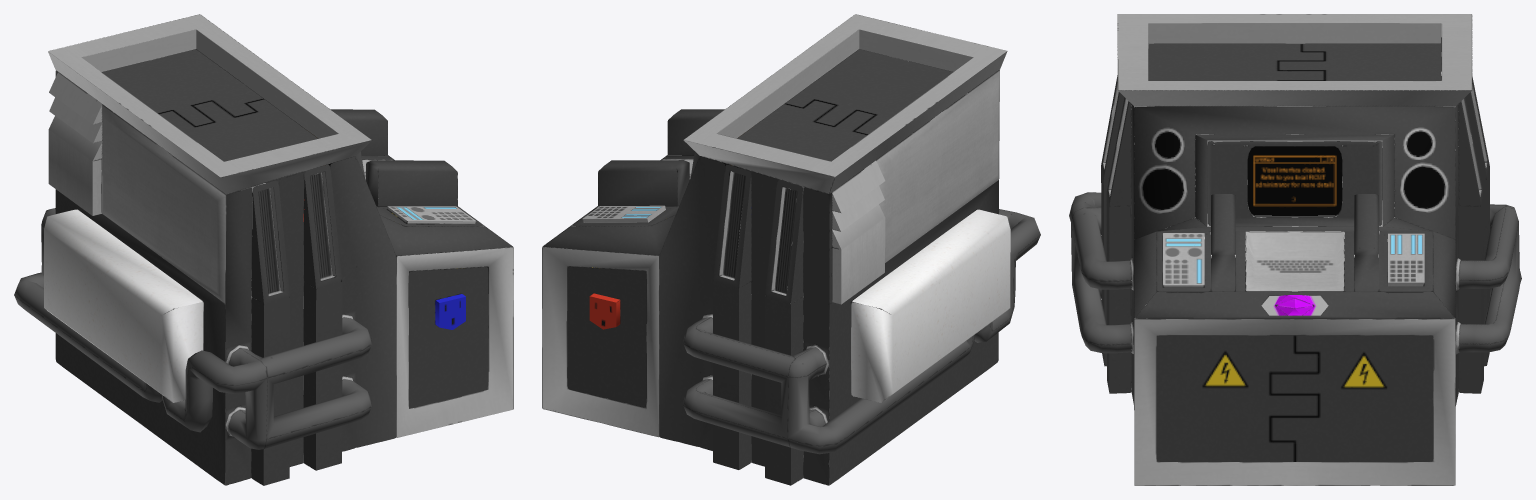
Rendered from SpaceElevatorPart_L2.fbx.
The picture shows the model from 3 angles, left to right: view 1: azimuth 30°, elevation 25°; view 2: azimuth 150°, elevation 25°; view 3: azimuth 270°, elevation 25°; orthographic projection. The views are drawn at different scales.
Visible parts, largest first — view 1: Cube; view 2: Cube; view 3: Cube.
Part boxes in pixels (bbox=[...]): Cube: bbox=[14, 14, 513, 485]; Cube: bbox=[542, 14, 1040, 485]; Cube: bbox=[1069, 14, 1521, 485].
Size of the model in its own units: 88.43 by 79.22 by 101.
Materials: 1 (1 with a texture image).
